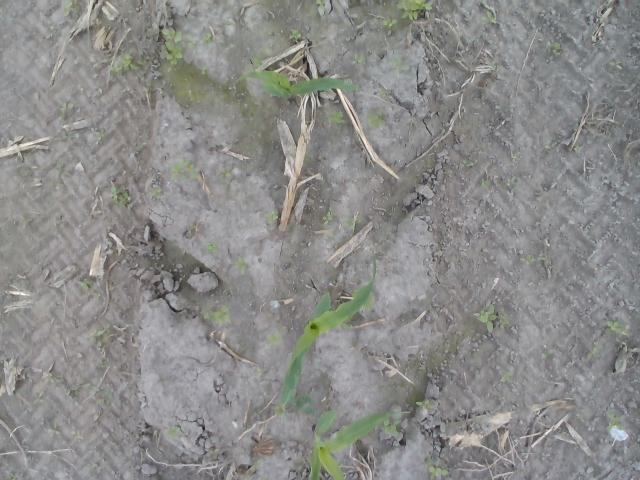Maize: (274, 251, 380, 409), (306, 408, 400, 480), (238, 68, 362, 100)
Weeds: (472, 301, 510, 336), (160, 26, 185, 72), (200, 303, 233, 327), (396, 0, 432, 21), (383, 56, 417, 78), (108, 54, 141, 76), (169, 159, 200, 181), (604, 406, 624, 432), (110, 183, 130, 208), (424, 461, 450, 480), (86, 328, 113, 346), (95, 384, 114, 407), (368, 110, 386, 128), (384, 417, 401, 436), (342, 215, 361, 232), (606, 319, 624, 336), (232, 256, 248, 275), (265, 328, 281, 346), (164, 425, 183, 440), (546, 40, 562, 57), (320, 209, 336, 225), (498, 368, 513, 385), (526, 254, 546, 266), (41, 372, 58, 386), (382, 16, 399, 30), (506, 176, 520, 192), (218, 167, 232, 183), (415, 400, 433, 412), (479, 14, 497, 26), (207, 240, 220, 256), (328, 111, 344, 124), (47, 421, 61, 435), (264, 210, 278, 224), (62, 0, 74, 16), (187, 90, 200, 104), (352, 54, 368, 65), (608, 60, 624, 71), (200, 32, 213, 45), (248, 54, 262, 66), (62, 131, 80, 140), (56, 159, 65, 177), (288, 29, 300, 42), (462, 158, 474, 170), (479, 176, 491, 188), (274, 405, 286, 417), (59, 103, 74, 112), (151, 186, 162, 198), (80, 278, 92, 289), (592, 343, 604, 353), (376, 88, 391, 96), (95, 128, 102, 145), (510, 152, 520, 162), (543, 350, 552, 360), (188, 38, 197, 48), (143, 86, 152, 96), (7, 471, 17, 480), (315, 0, 326, 8), (575, 144, 583, 154), (72, 431, 82, 439), (256, 367, 264, 377), (136, 144, 145, 152), (630, 377, 640, 384), (94, 292, 102, 300), (200, 66, 208, 74)
